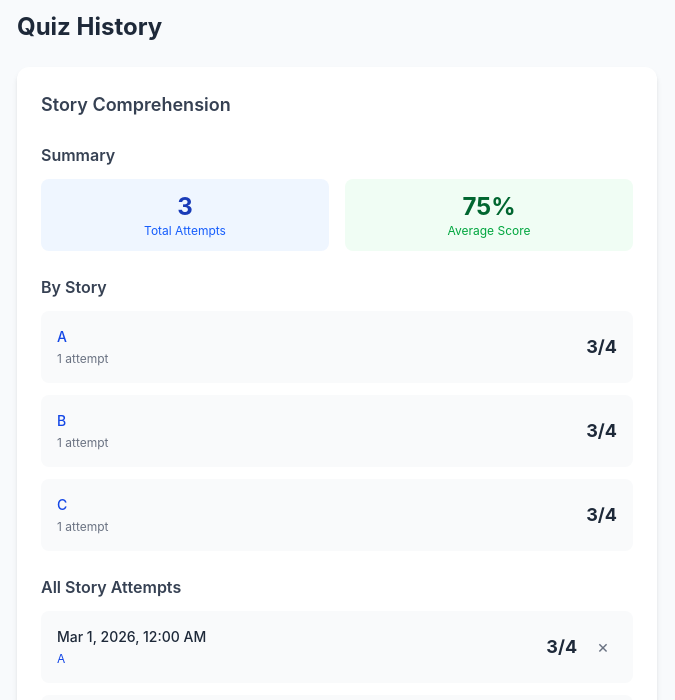
Test: HistoryPage Story Comprehension block › rapid deletions: only the most-recently deleted entry is undoable; the earlier deletion stays gone
The image size is (675, 700).
Click the button named "Delete attempt for A": click(603, 647) [589, 634, 617, 660]
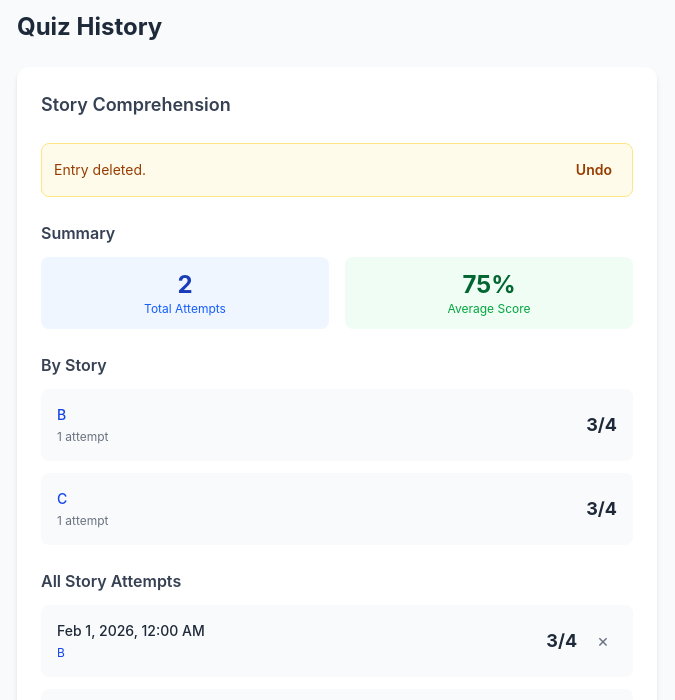
Click the button named "Delete attempt for B": click(603, 641) [589, 628, 617, 654]
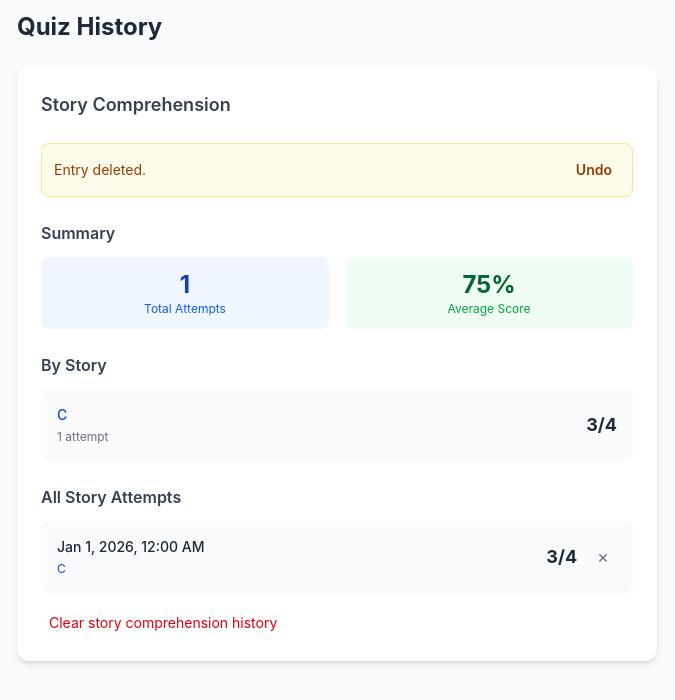
Result: the message "Entry deleted. Undo" is shown at [41, 143, 633, 197]
Click the button "Undo": click(594, 170) [568, 156, 620, 184]
Wait 8000 ms
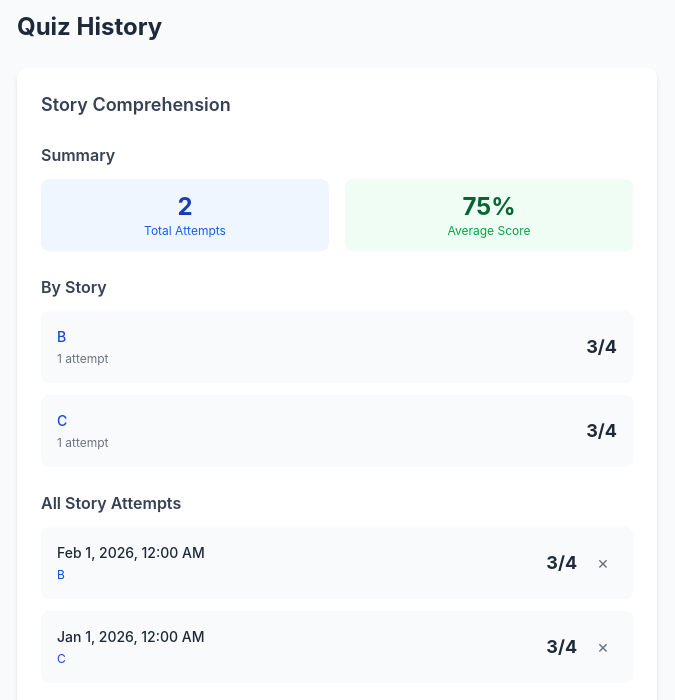
Result: the message with test id "undo-banner" is gone
